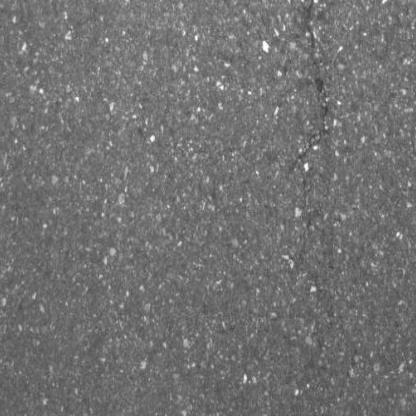Cracks: (292, 64, 329, 235), (306, 0, 325, 51)
